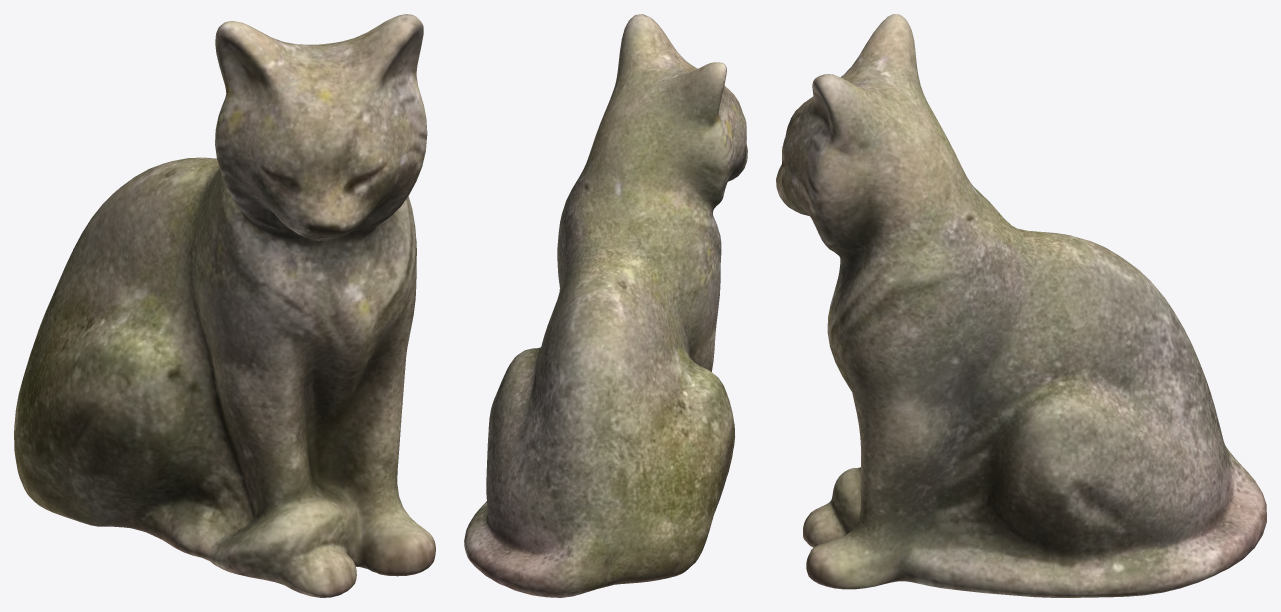
Rendered from concrete_cat_statue.glb.
3 views of the same model, side by side, from view 1: azimuth 30°, elevation 25°; view 2: azimuth 150°, elevation 25°; view 3: azimuth 270°, elevation 25° (orthographic). The views are drawn at different scales.
Visible parts, largest first — view 1: concrete_cat_statue; view 2: concrete_cat_statue; view 3: concrete_cat_statue.
Boxes of the visible parts, box(x1,y1,x2,y2) form: concrete_cat_statue: box(14, 14, 435, 597); concrete_cat_statue: box(464, 14, 747, 597); concrete_cat_statue: box(776, 14, 1266, 597).
Size of the model in its own units: 0.153 by 0.283 by 0.25.
1 material, 1 textured.
